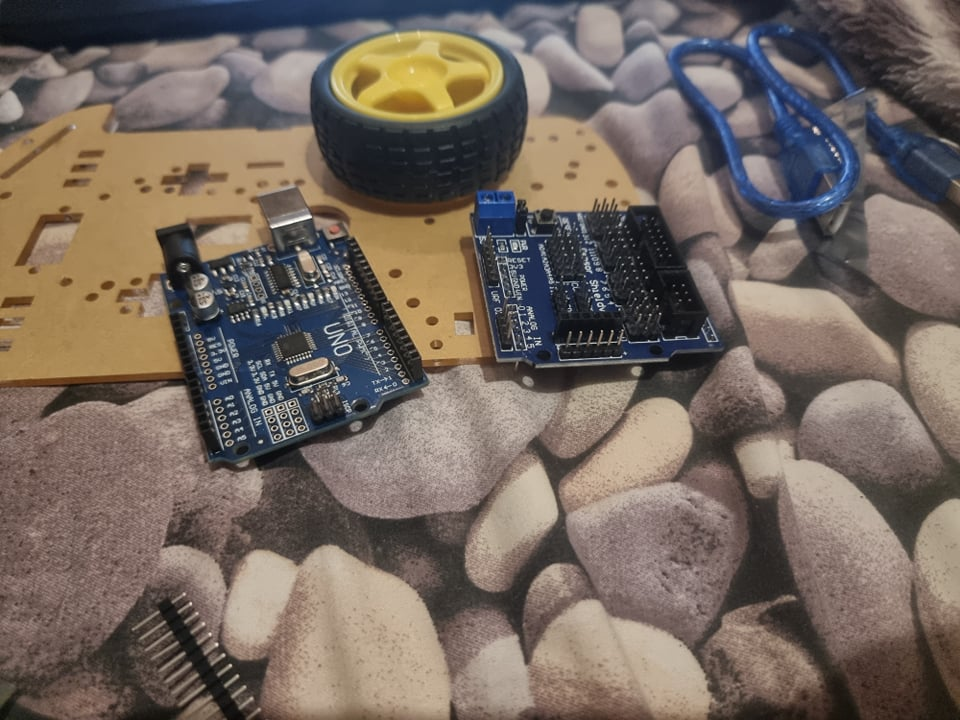5V EXPANSION: (471, 187, 722, 366)
UNO R3: (152, 187, 428, 469)
